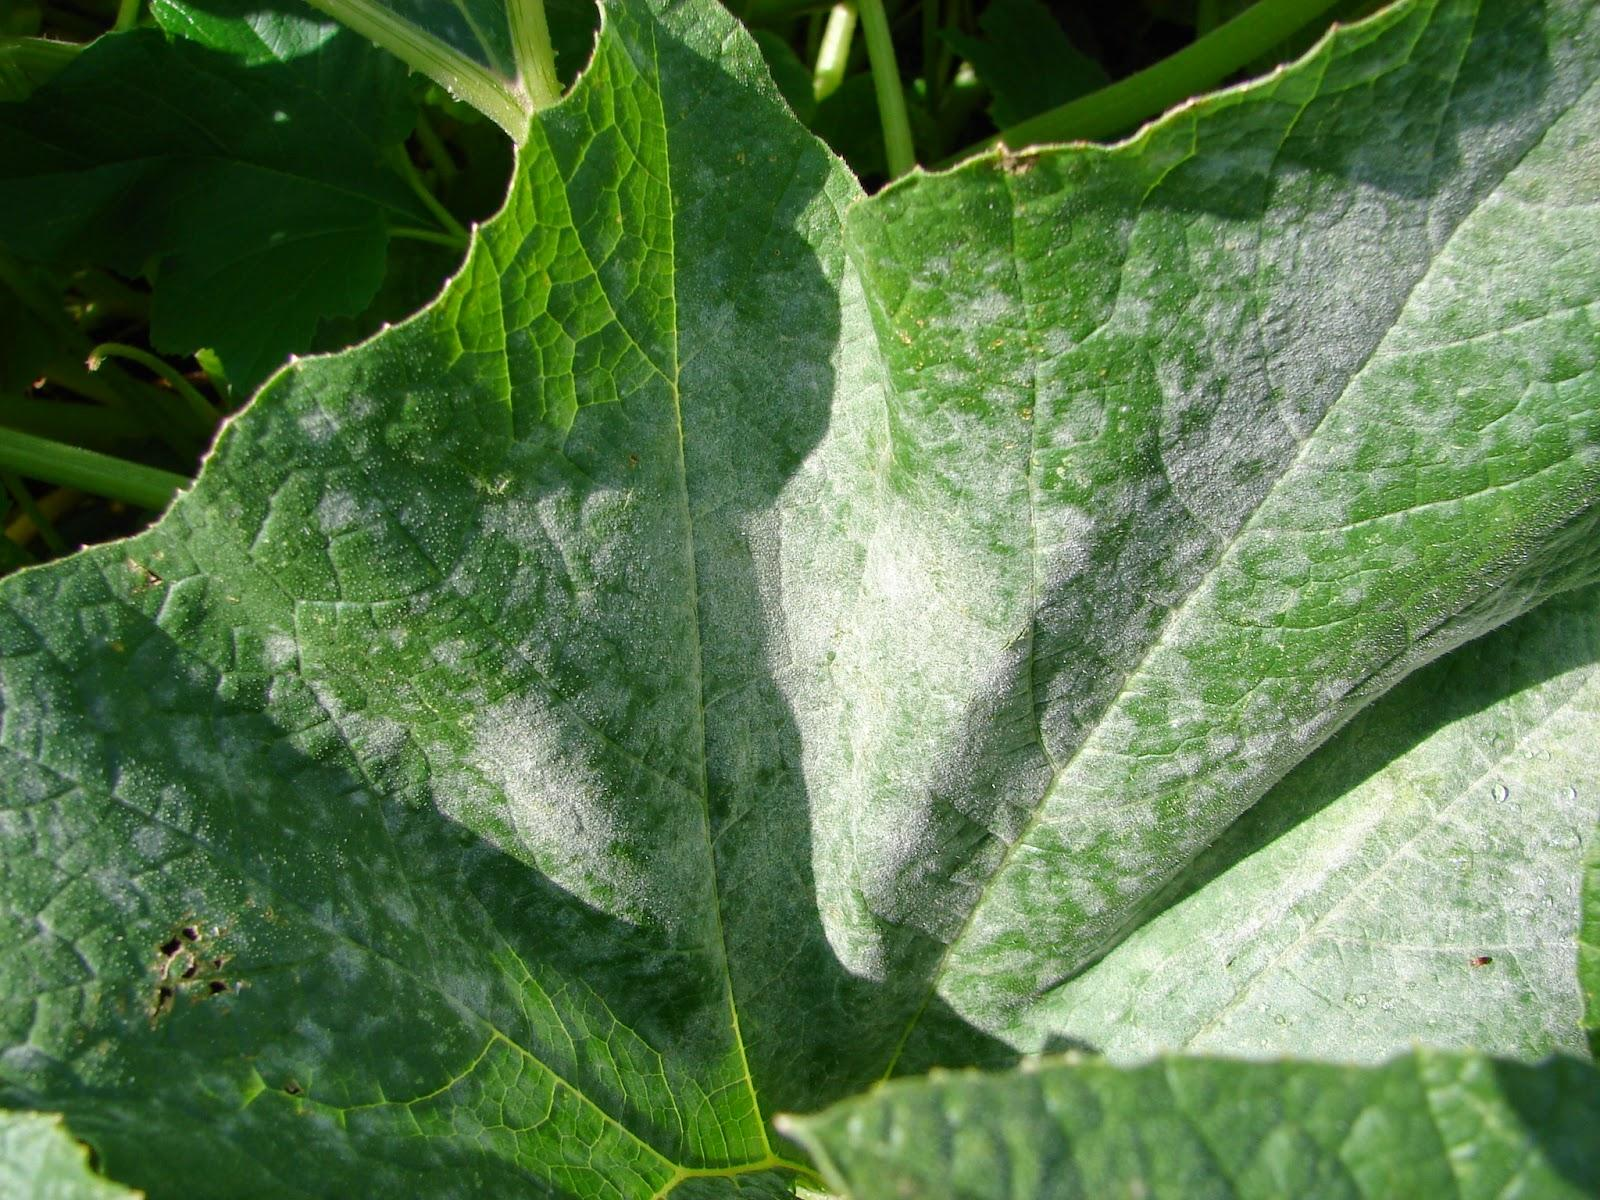Squash Powdery mildew leaf: (11, 33, 1600, 1175)
